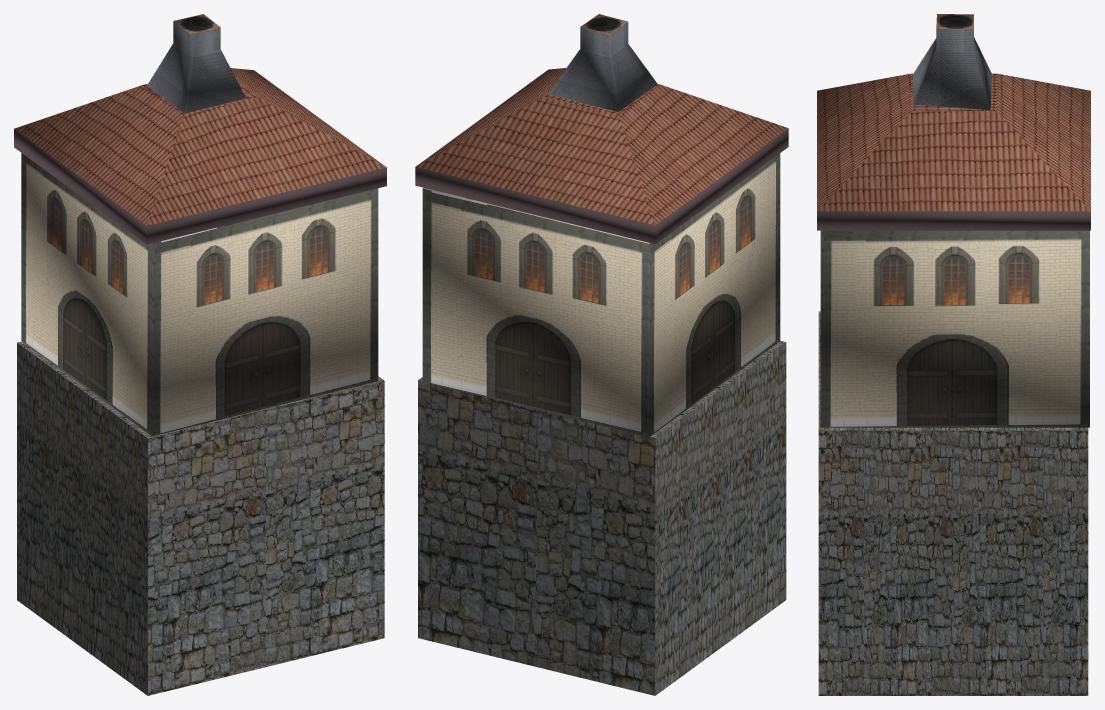
Rendered from ironworks.glb.
The picture shows the model from 3 angles, left to right: view 1: azimuth 30°, elevation 25°; view 2: azimuth 150°, elevation 25°; view 3: azimuth 270°, elevation 25°; orthographic projection. The views are drawn at different scales.
Visible parts, largest first — view 1: Cube.002, Cube, Cube.001, Cube.003; view 2: Cube.002, Cube, Cube.001, Cube.003; view 3: Cube.002, Cube, Cube.001, Cube.003.
Part boxes in pixels (bbox=[...]): Cube.002: bbox=[17, 341, 384, 695]; Cube: bbox=[21, 153, 378, 436]; Cube.001: bbox=[14, 68, 386, 244]; Cube.003: bbox=[147, 14, 245, 113]; Cube.002: bbox=[418, 340, 786, 695]; Cube: bbox=[422, 153, 780, 436]; Cube.001: bbox=[415, 68, 788, 244]; Cube.003: bbox=[548, 14, 657, 111]; Cube.002: bbox=[818, 311, 1088, 695]; Cube: bbox=[820, 230, 1089, 427]; Cube.001: bbox=[817, 73, 1090, 230]; Cube.003: bbox=[913, 14, 992, 109].
Bounding box in the file's own units: 1.95 × 4.62 × 1.87.
6 materials, 5 textured.
